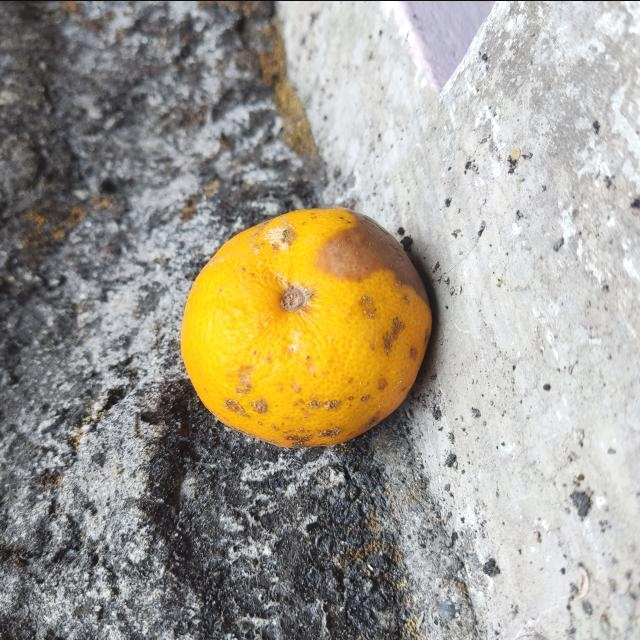agrume: (182, 206, 434, 446)
